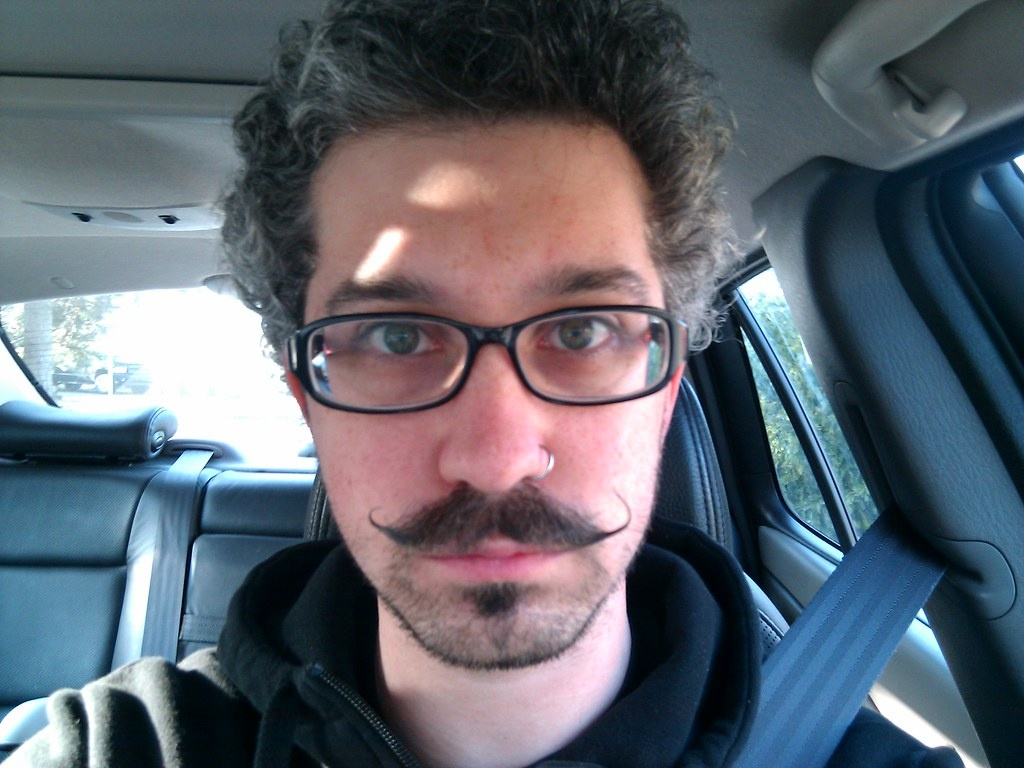without_mask: (288, 107, 694, 663)
